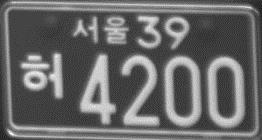0: (204, 54, 248, 130), (162, 54, 201, 129)
2: (117, 51, 160, 125)
3: (135, 14, 162, 49)
4: (78, 51, 118, 125)
9: (163, 14, 190, 49)
서울_O: (71, 14, 131, 46)
허: (20, 50, 65, 101)
